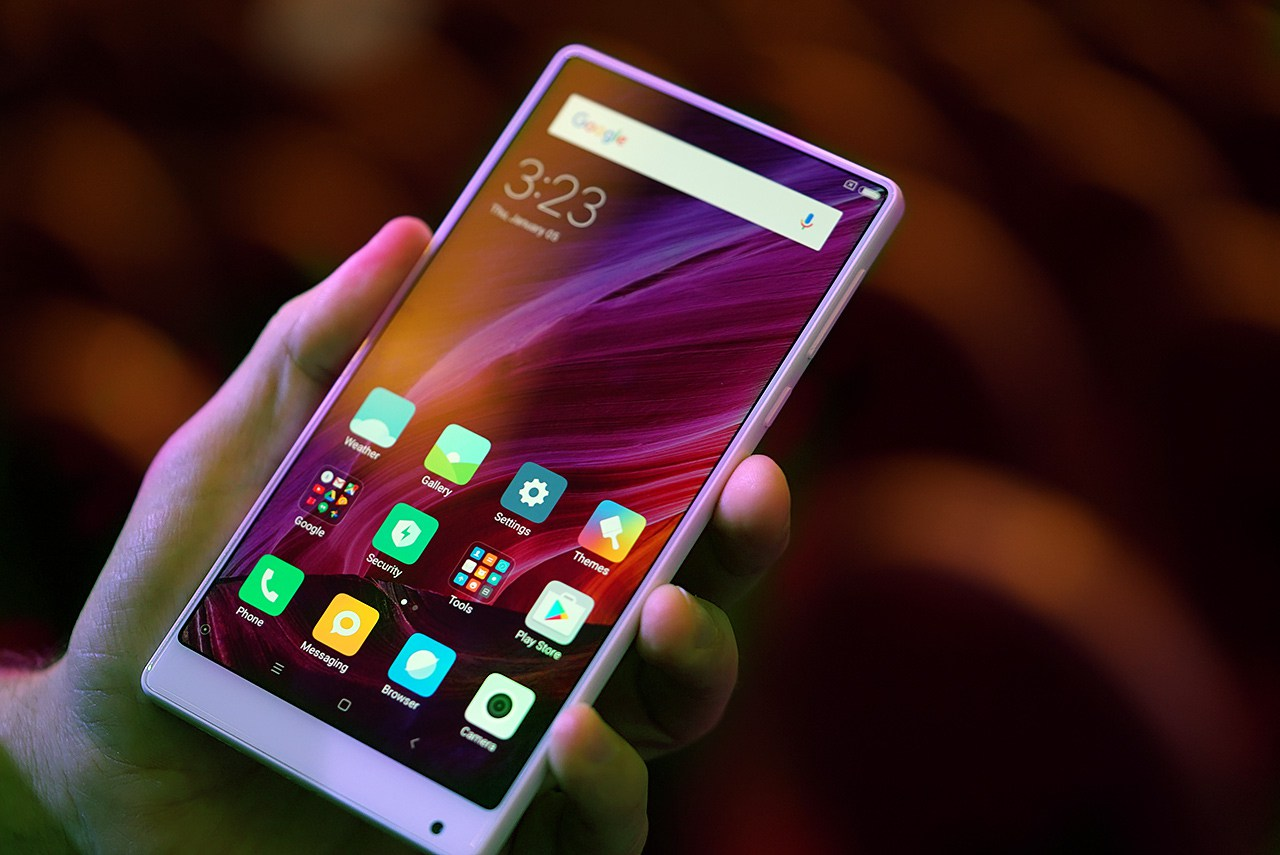smartphone: (140, 43, 905, 855)
